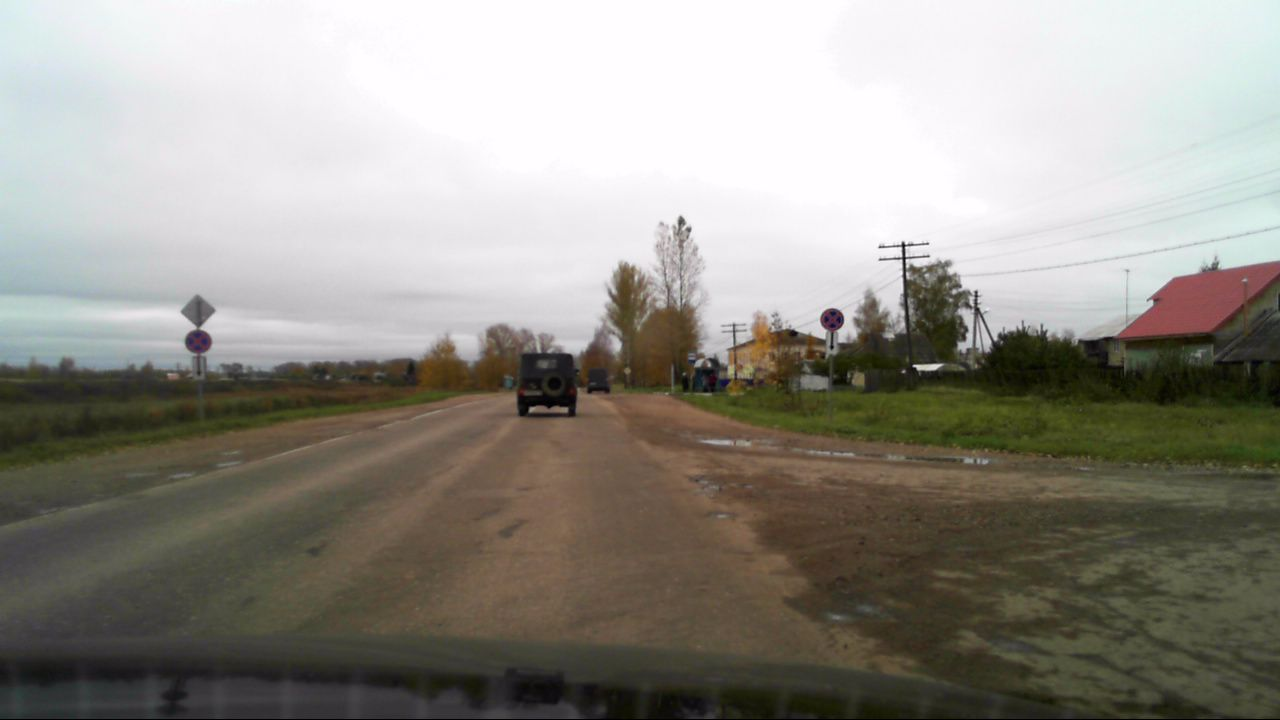No Parking: (185, 329, 212, 353)
